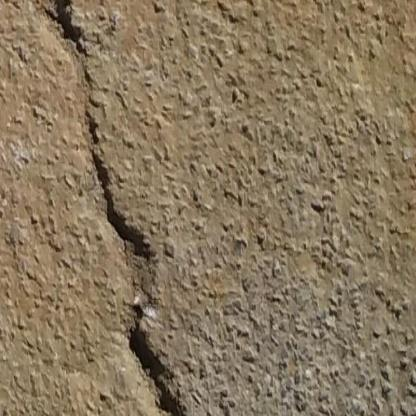Cracks: (80, 68, 156, 271), (127, 305, 202, 416), (35, 0, 87, 59)
